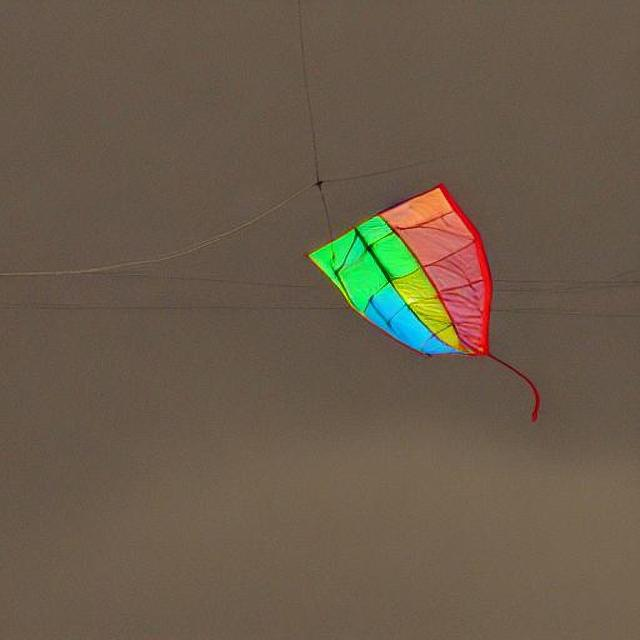floating object: (305, 180, 535, 413)
